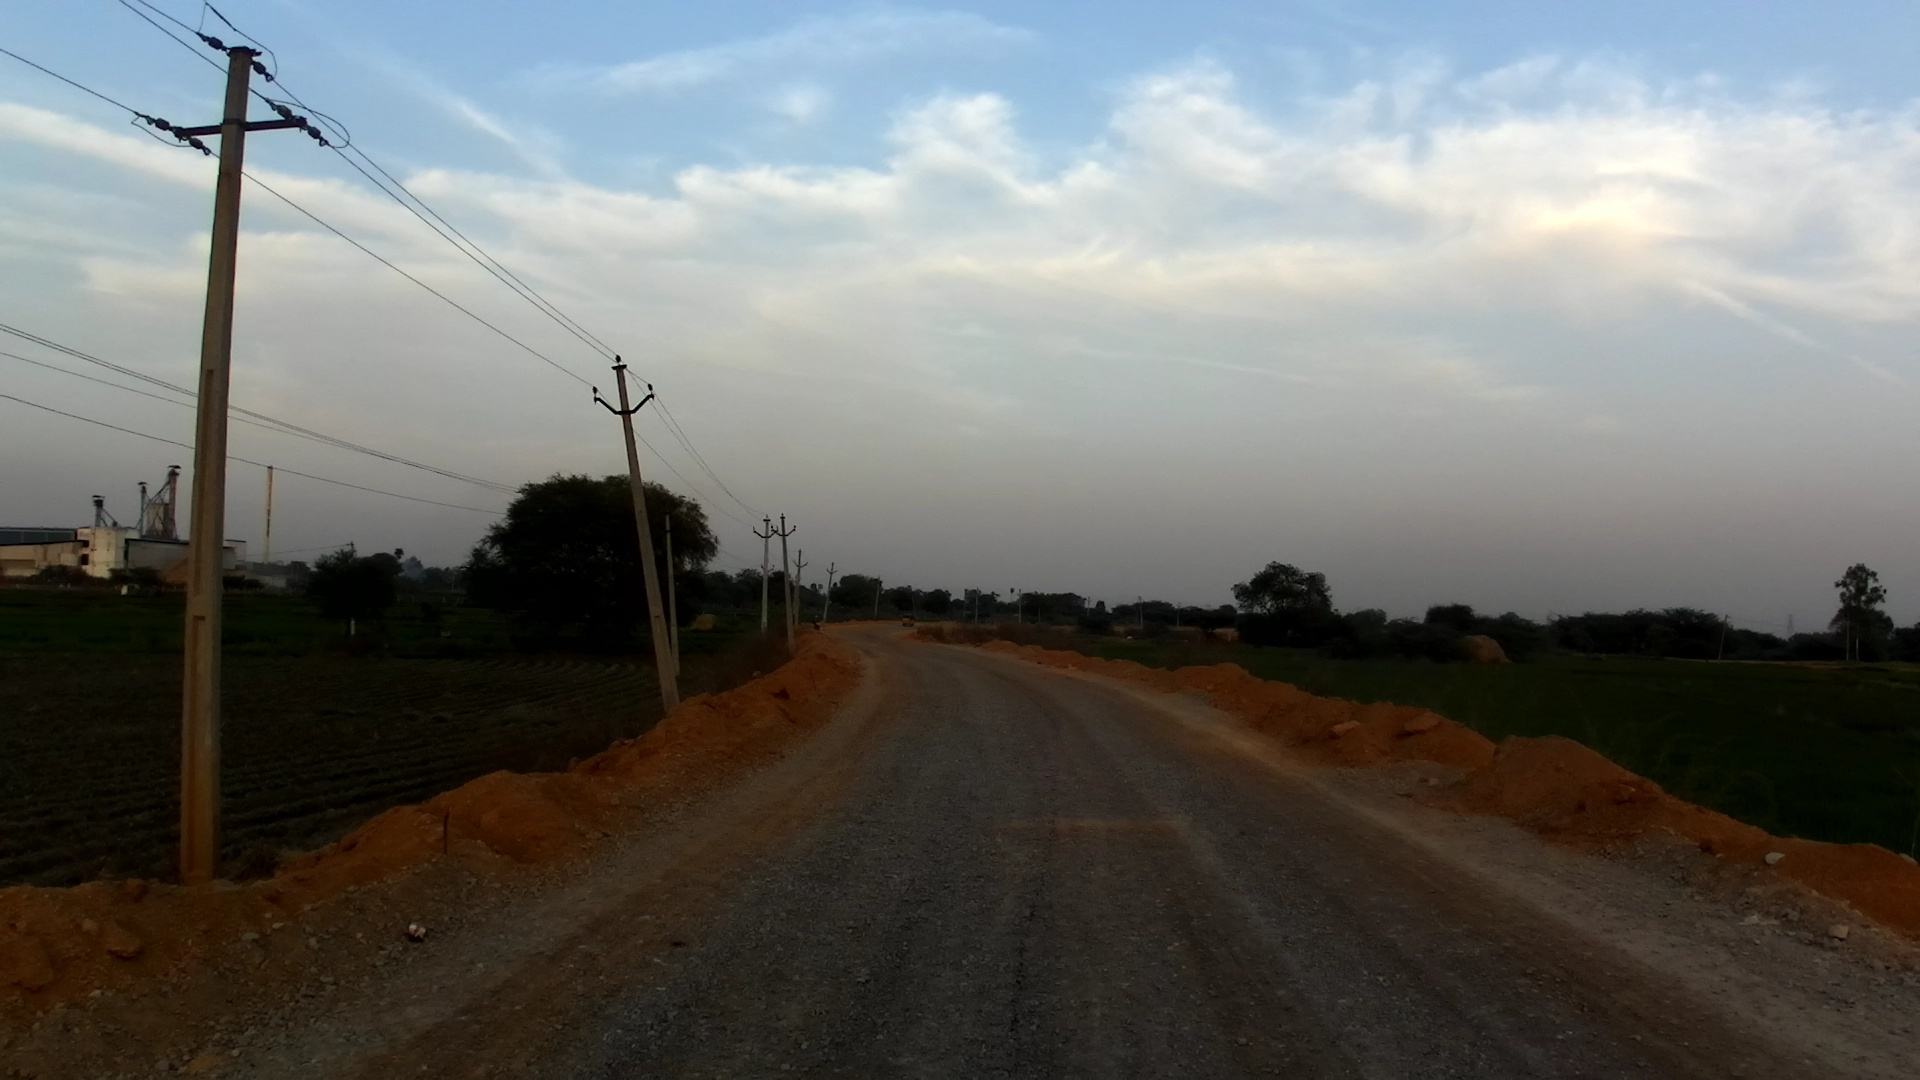motorcycle: (810, 616, 825, 634)
vehicle fallback: (901, 612, 915, 630)
